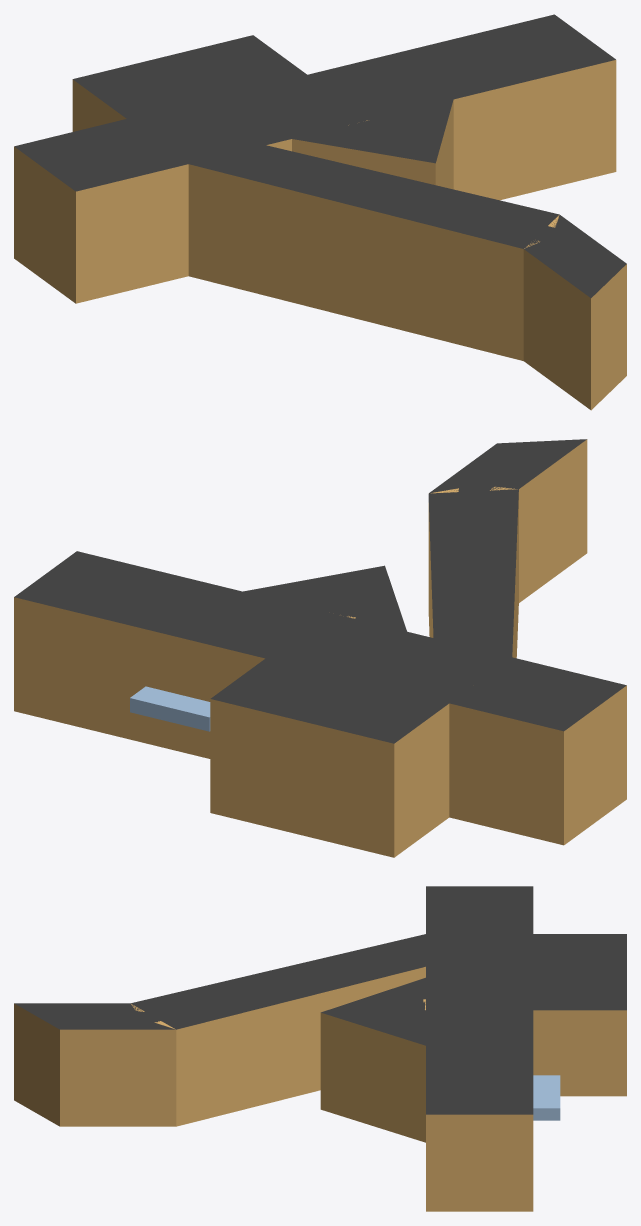
Rendered from Office.fbx.
3 views of the same model, one above another, from view 1: azimuth 30°, elevation 25°; view 2: azimuth 150°, elevation 25°; view 3: azimuth 270°, elevation 25° (orthographic). The views are drawn at different scales.
Parts seen in each view (by area): view 1: Cube, Roof; view 2: Cube, Roof, Window; view 3: Cube, Roof, Window.
Boxes of the visible parts, box(x1,y1,x2,y2) form: Cube: box(14, 60, 626, 410); Roof: box(14, 14, 626, 297); Cube: box(14, 439, 626, 857); Roof: box(14, 439, 626, 743); Window: box(130, 686, 210, 731); Cube: box(14, 966, 626, 1211); Roof: box(14, 886, 626, 1114); Window: box(533, 1075, 560, 1120).
Size of the model in its own units: 10091 by 2000 by 11454.
